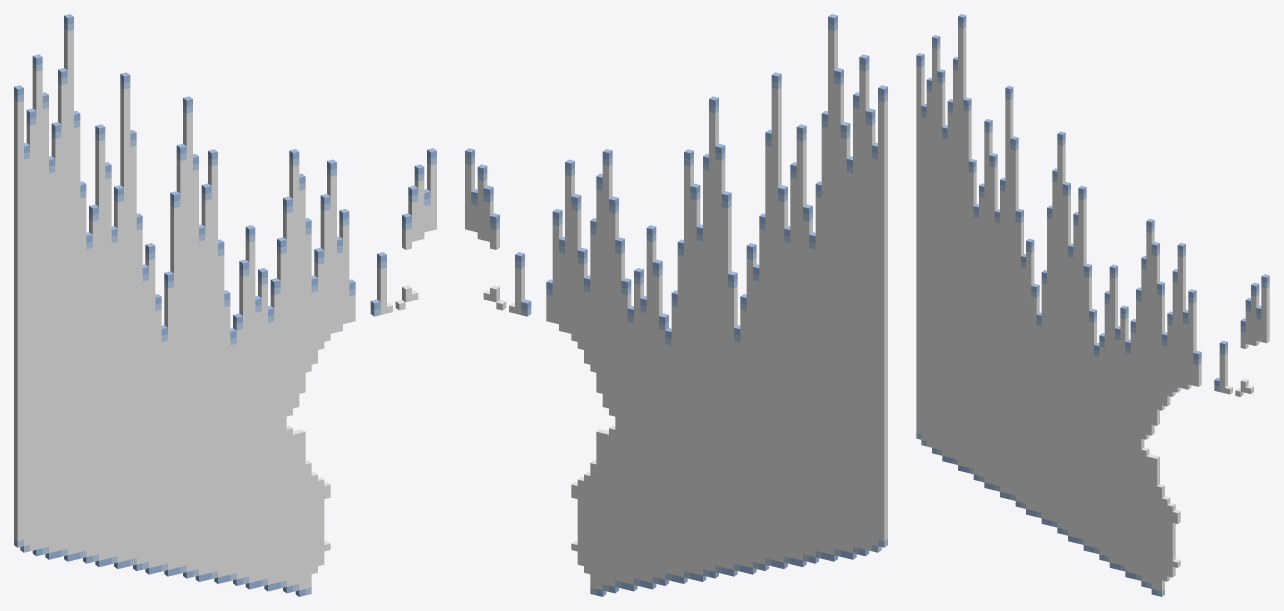
Rendered from Fight_101_3_07_fx.obj.
The picture shows the model from 3 angles, left to right: view 1: azimuth 30°, elevation 25°; view 2: azimuth 150°, elevation 25°; view 3: azimuth 330°, elevation 25°; orthographic projection. The views are drawn at different scales.
Size of the model in its own units: 6.7 by 9.7 by 0.1.
1 material, 1 textured.
